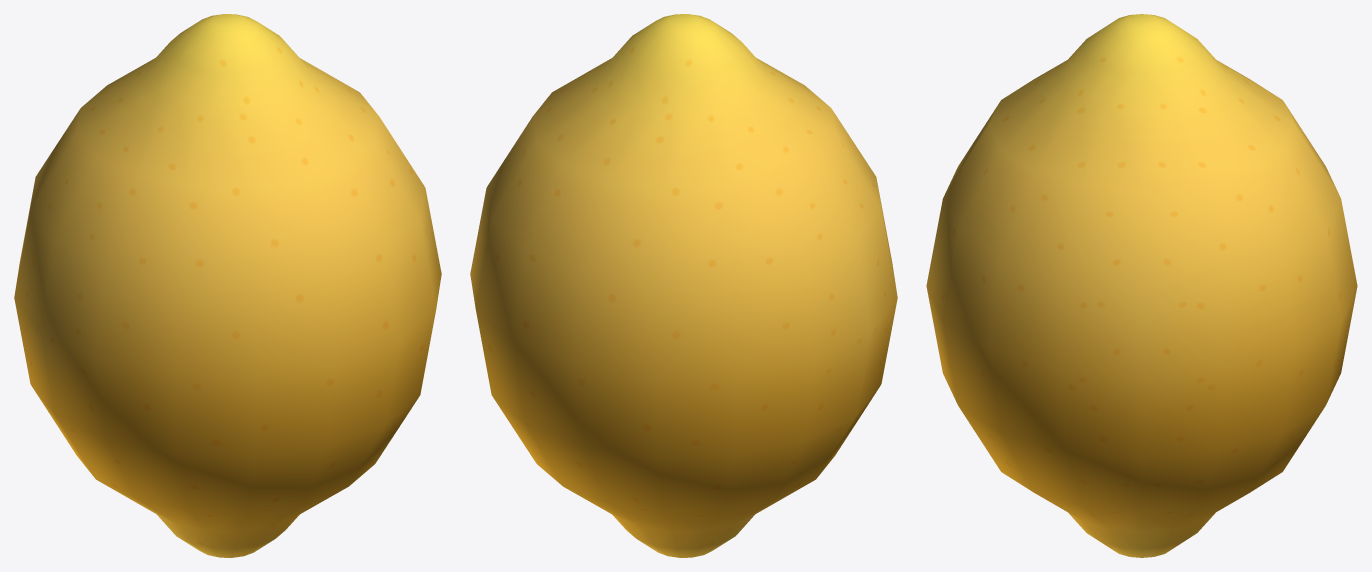
Rendered from lemon.FBX.
The picture shows the model from 3 angles, left to right: view 1: azimuth 30°, elevation 25°; view 2: azimuth 150°, elevation 25°; view 3: azimuth 270°, elevation 25°; orthographic projection.
Parts seen in each view (by area): view 1: lemon; view 2: lemon; view 3: lemon.
Boxes of the visible parts, left/top/right/bottom form: lemon: left=14, top=14, right=441, bottom=557; lemon: left=470, top=14, right=897, bottom=557; lemon: left=926, top=14, right=1357, bottom=557.
Size of the model in its own units: 26.02 by 35.35 by 26.02.
